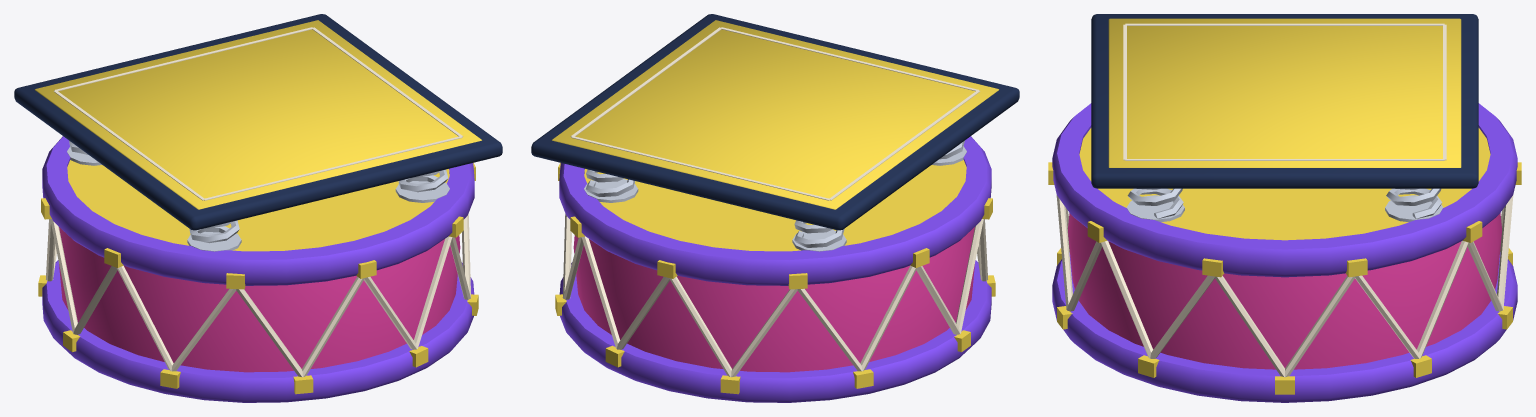
File: toy_drum.glb
3 renders of one model, left to right at view 1: azimuth 30°, elevation 25°; view 2: azimuth 150°, elevation 25°; view 3: azimuth 270°, elevation 25°, orthographic. The views are drawn at different scales.
Visible parts, largest first — view 1: toy_drum; view 2: toy_drum; view 3: toy_drum.
Part boxes in pixels (box(x1,y1,x2,y2)): toy_drum: box(14, 14, 502, 402); toy_drum: box(531, 14, 1019, 402); toy_drum: box(1048, 14, 1521, 402).
Bounding box in the file's own units: 10.07 × 5.04 × 10.07.
Materials: 1 (1 with a texture image).
